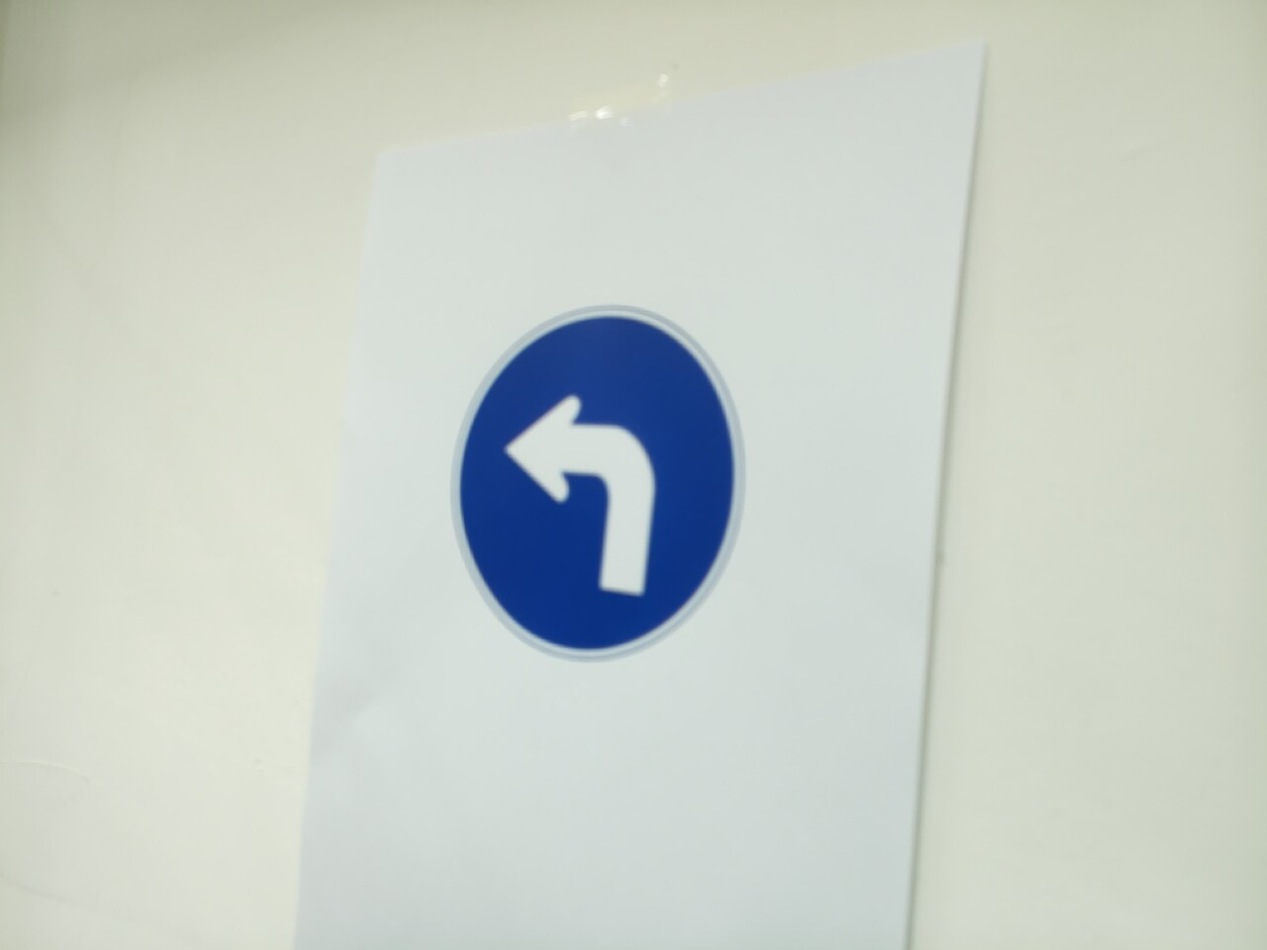left_turn: (450, 306, 743, 659)
